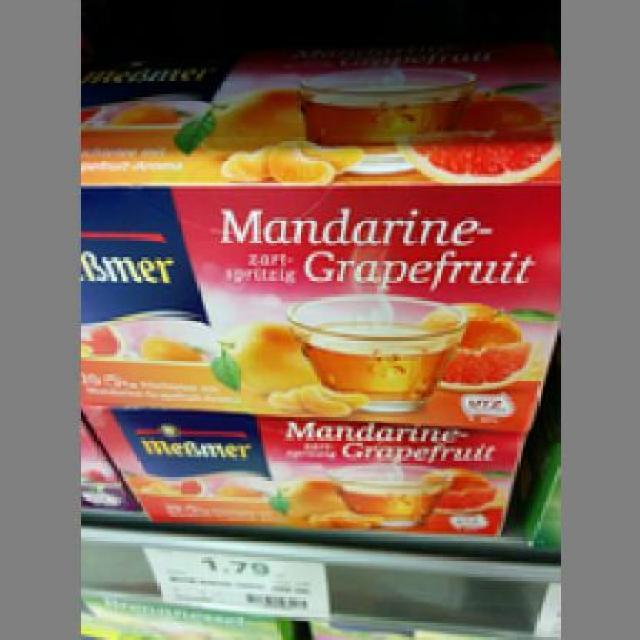Tea: (77, 54, 554, 426), (77, 400, 523, 534)
